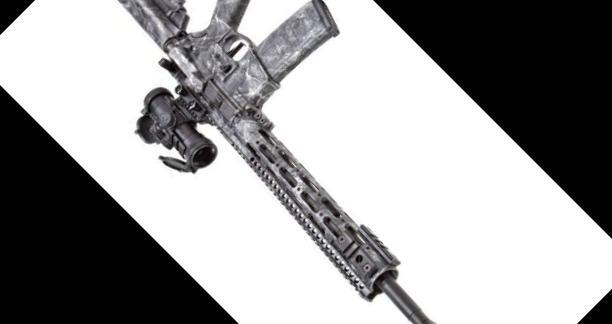larga: (117, 0, 436, 324)
